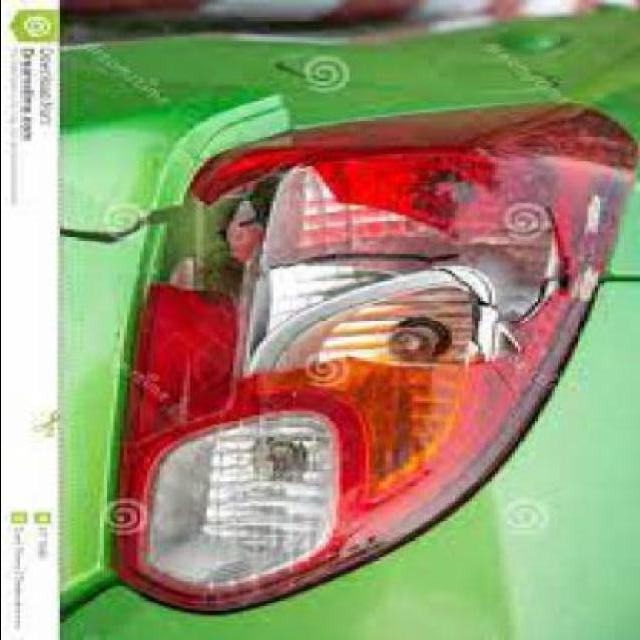Taillight-Damage: (61, 68, 632, 628)
